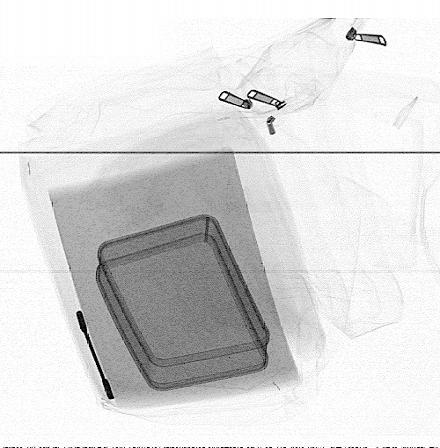Wrench: (74, 306, 116, 401)
